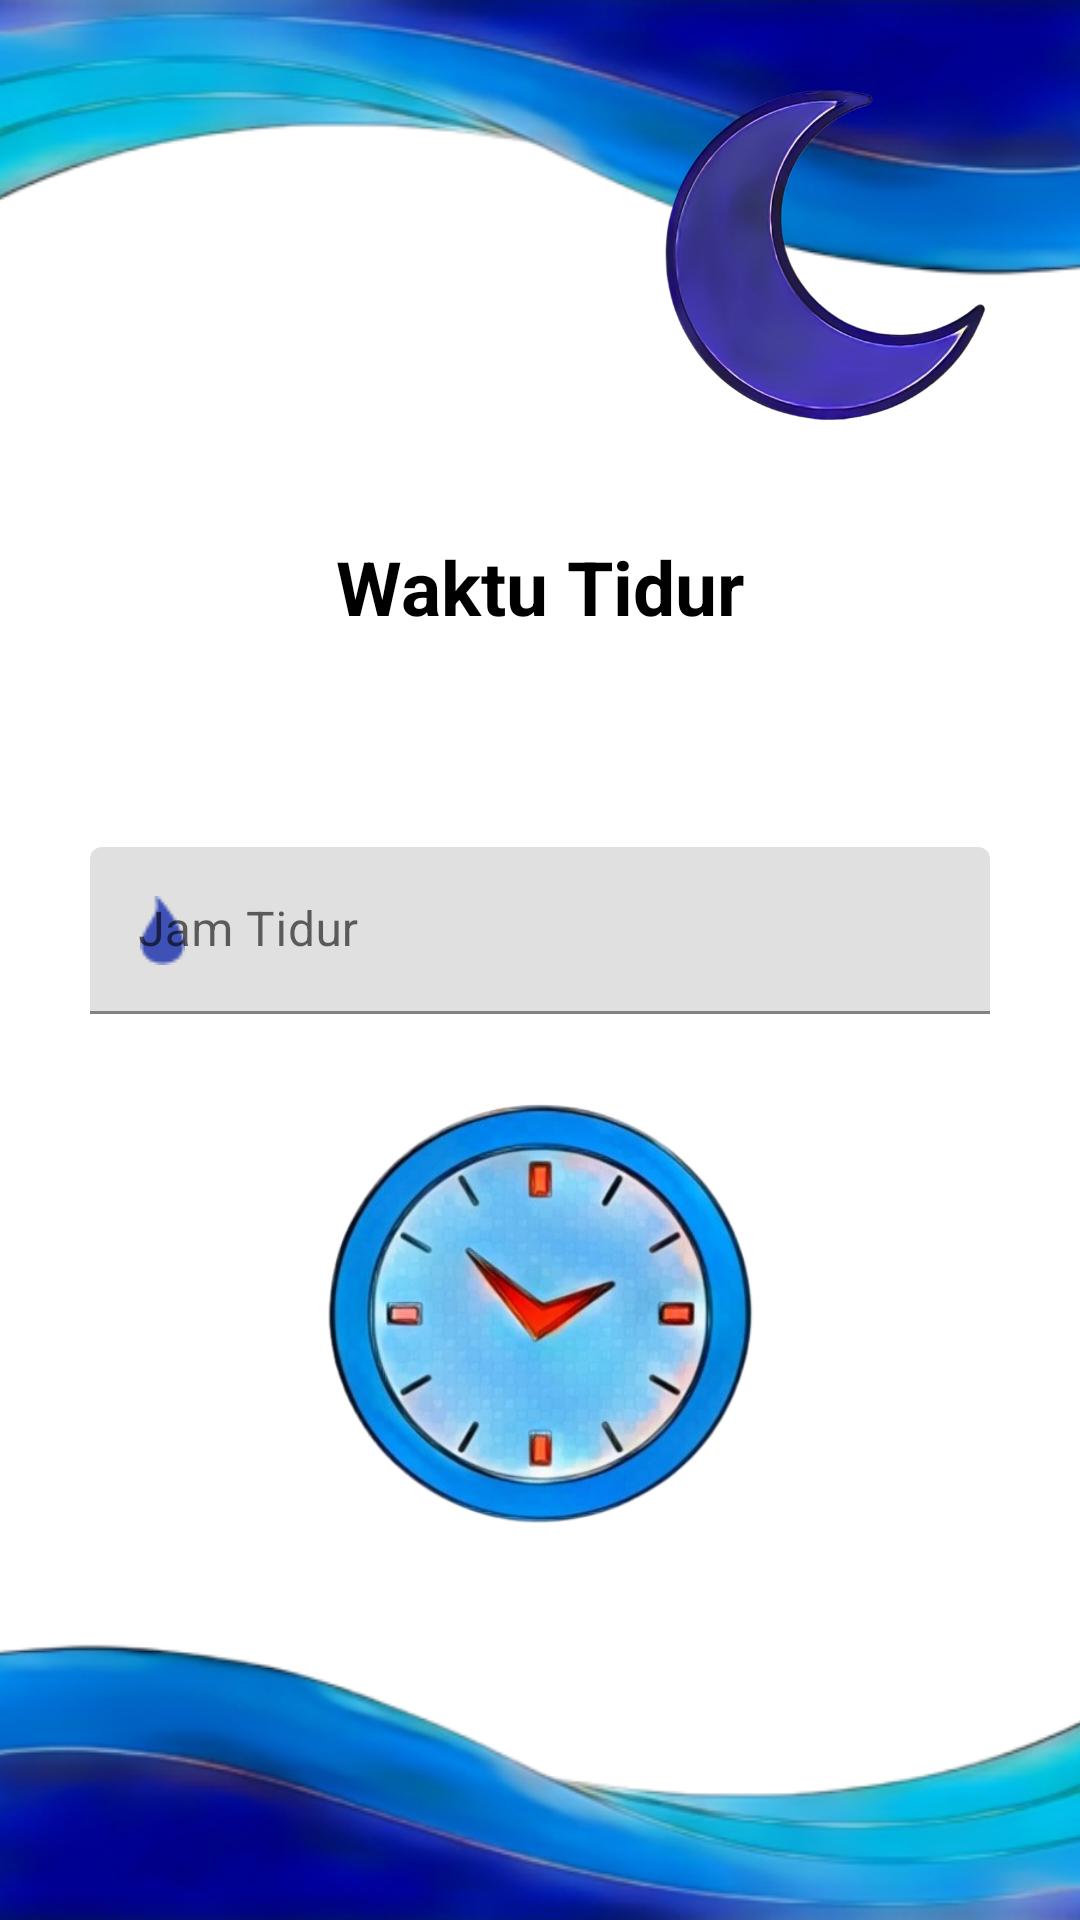

Icon click points for this 1080px×1920px phone screenshot, format [x,y]:
bulan: [825,255]
